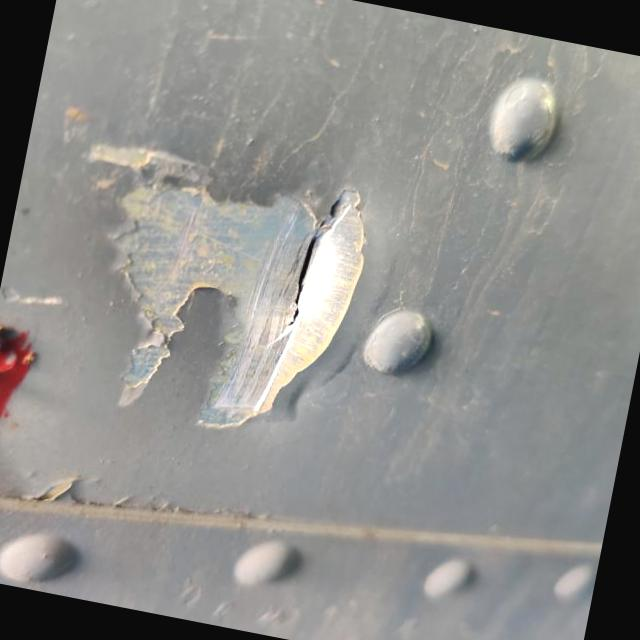crack: (254, 169, 364, 365)
paint-off: (31, 99, 408, 473)
